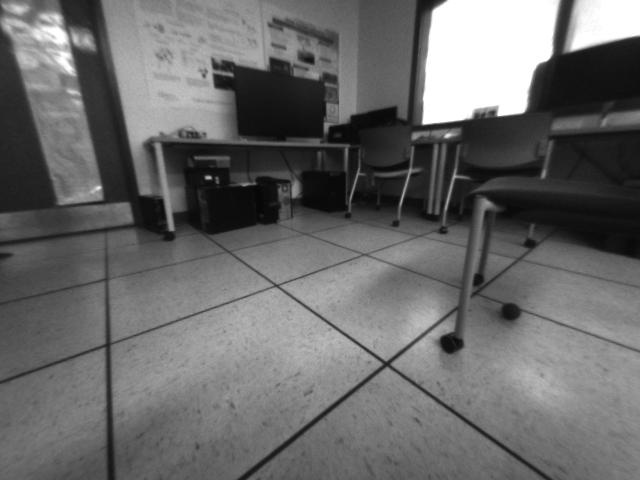dogtoy: (495, 294, 531, 327)
